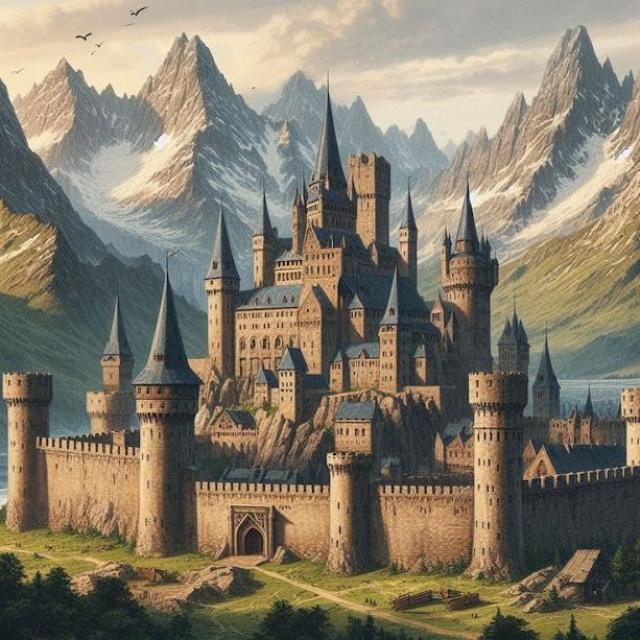castle: (4, 61, 640, 561)
